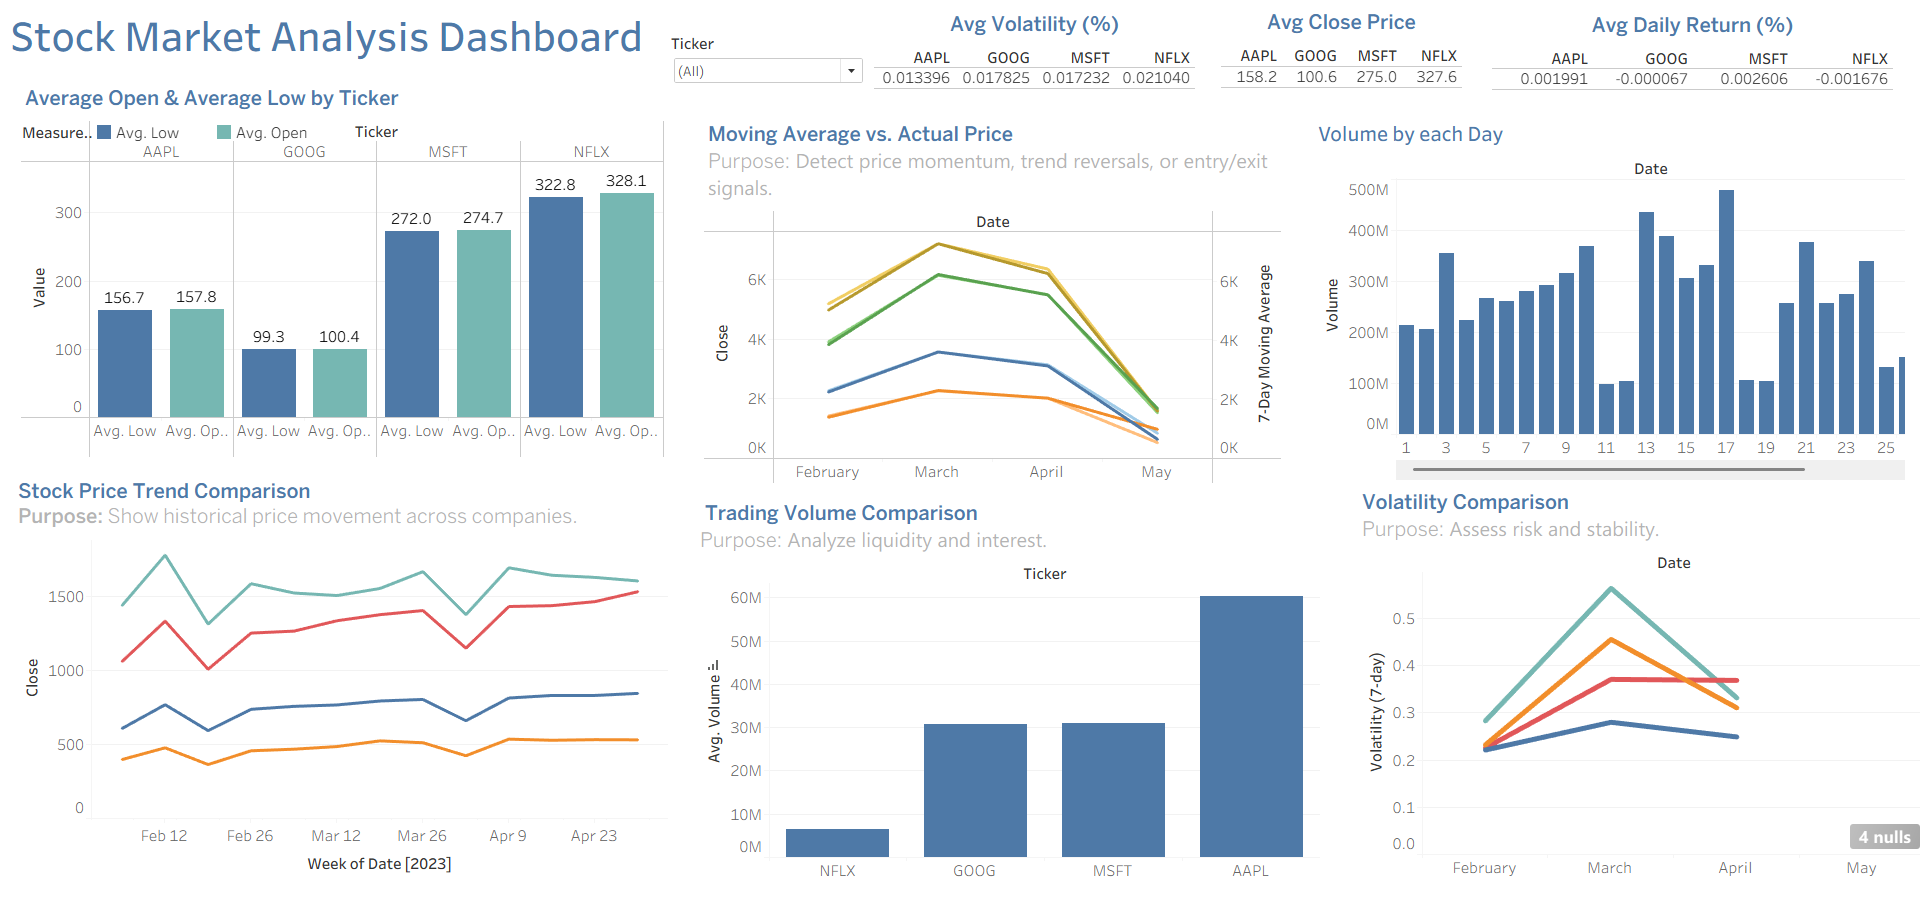

What the dashboard file says about the page in this screenshot:
{"tool":"tableau","page":{"name":"Dashboard 2","canvas":[1000,1000],"units":"permille","ordinal":1},"visuals":[{"type":"worksheet","title":"Avg Close Price","mark":"Automatic","cols":["Ticker"],"box":[636.1,8.7,134.5,103.6]},{"type":"text","box":[3.7,11.2,341.1,58.7]},{"type":"worksheet","title":"Avg Volatility (%)","mark":"Automatic","cols":["Ticker"],"box":[455,11.2,175.8,103.6]},{"type":"worksheet","title":"Avg Daily Return (%)","mark":"Automatic","cols":["Ticker"],"box":[777,12.5,223.5,104.9]},{"type":"filter","title":"Stock Price Trend Comparison","param":"[federated.1imzoha0kfxrqh13zwuay184xgvn].[none:Ticker:nk]","box":[349.6,38.7,101.7,81.2]},{"type":"worksheet","title":"Average Open & Average Low by Ticker","mark":"Automatic","cols":["Ticker"],"box":[11.1,92.4,334.8,415.7]},{"type":"worksheet","title":"Volume by each Day","mark":"Bar","rows":["Date"],"cols":["Volume"],"box":[684.3,129.8,307.7,403.2]},{"type":"worksheet","title":"Moving Average vs. Actual Price","mark":"Automatic","rows":["Close","7-Day Moving Average"],"cols":["Date"],"box":[366.5,132.3,300.9,404.5]},{"type":"legend","title":"Average Open & Average Low by Ticker","param":"[federated.1imzoha0kfxrqh13zwuay184xgvn].[:Measure Names]","box":[11.7,137.3,170,26.2]},{"type":"worksheet","title":"Stock Price Trend Comparison","mark":"Automatic","rows":["Close"],"cols":["Date"],"box":[7.4,528.1,340.6,449.4]},{"type":"worksheet","title":"Volatility Comparison","mark":"Automatic","rows":["Volatility (7-day)"],"cols":["Date"],"box":[707.1,539.3,295.6,434.5]},{"type":"worksheet","title":" Trading Volume Comparison","mark":"Automatic","rows":["Volume"],"cols":["Ticker"],"box":[362.3,551.8,325.2,425.7]}]}

Visuals, with their boxes on the dashboard's canvas, which has no fixed pixel size, in thousandths of its width and height (x1, y1, x2, y2). These are canvas units, not pixel positions in the 1920x899 screenshot, which may show the page scaled, cropped or inside an application window:
"Avg Close Price" worksheet: 636 9 771 112
text: 4 11 345 70
"Avg Volatility (%)" worksheet: 455 11 631 115
"Avg Daily Return (%)" worksheet: 777 12 1000 117
"Stock Price Trend Comparison" filter: 350 39 451 120
"Average Open & Average Low by Ticker" worksheet: 11 92 346 508
"Volume by each Day" worksheet (Bar marks): 684 130 992 533
"Moving Average vs. Actual Price" worksheet: 366 132 667 537
"Average Open & Average Low by Ticker" legend: 12 137 182 164
"Stock Price Trend Comparison" worksheet: 7 528 348 978
"Volatility Comparison" worksheet: 707 539 1003 974
" Trading Volume Comparison" worksheet: 362 552 688 978
